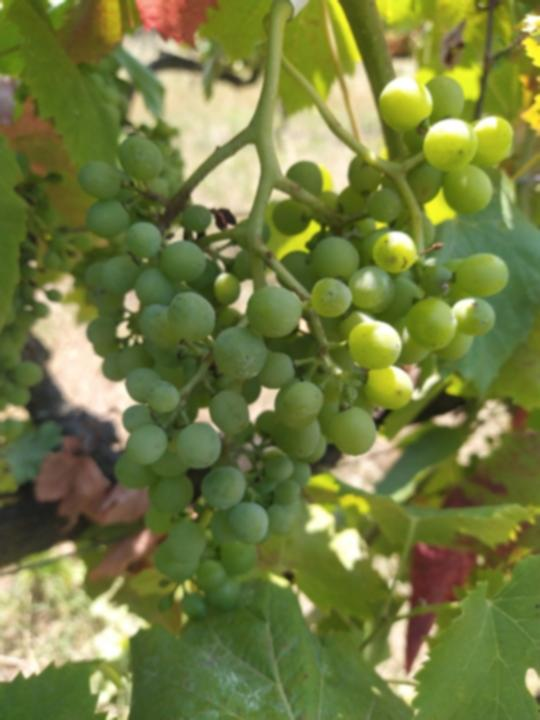grape: (77, 74, 517, 624)
